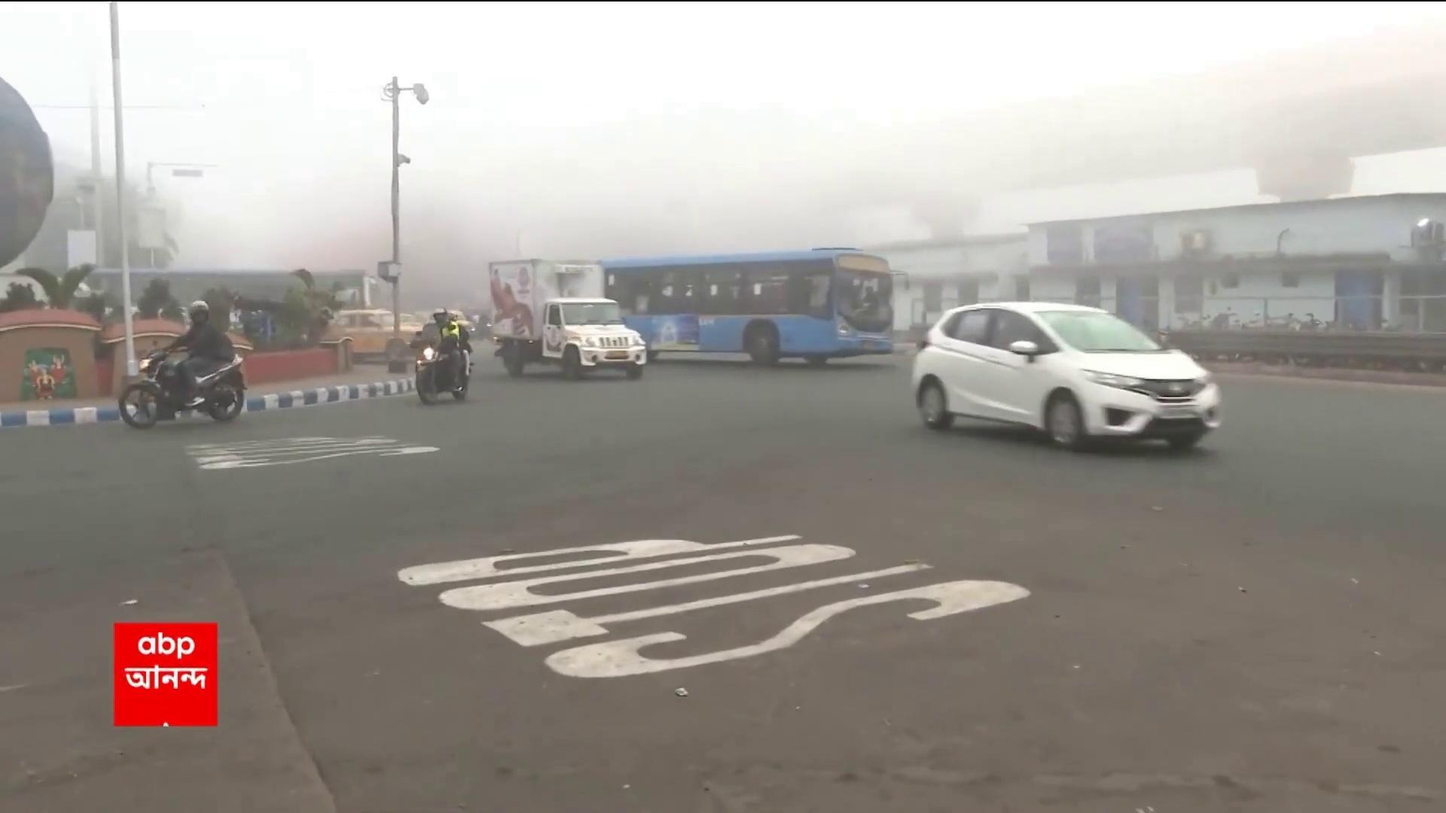Bike: (117, 296, 252, 435), (397, 304, 485, 405)
Bus: (610, 255, 902, 375)
Car: (908, 300, 1224, 451)
Truck: (478, 255, 651, 375)
